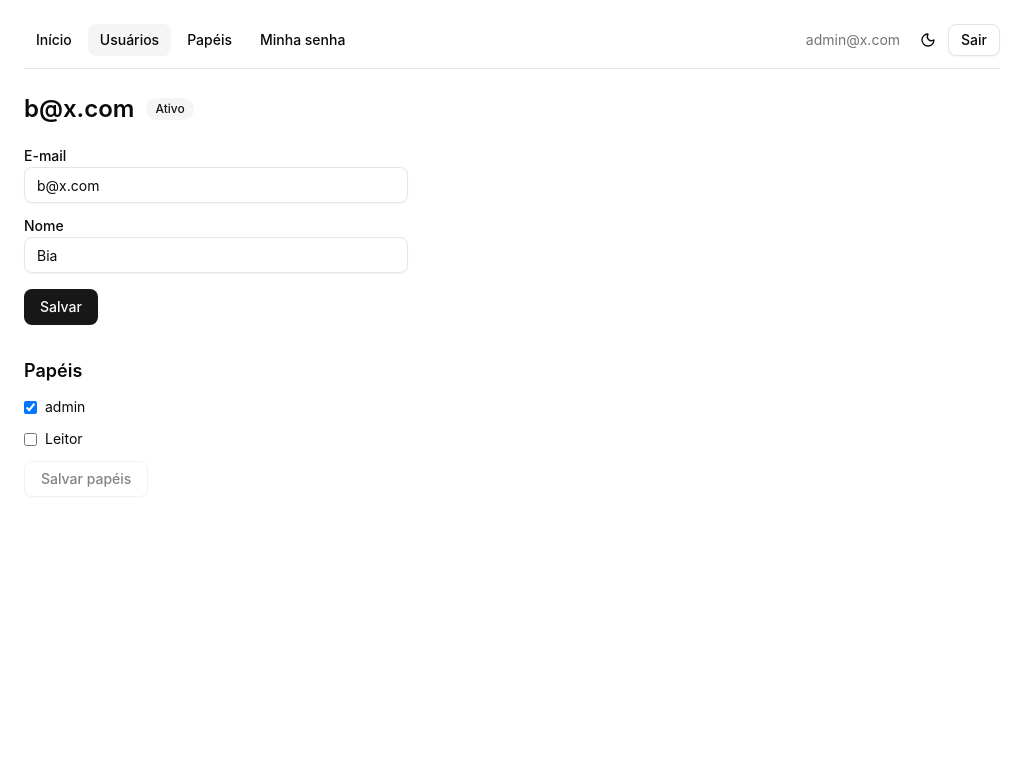
Scenario: UserRoles on /users/$id › shows last admin conflict
Expected: the checkbox labelled "Leitor" is shown, left=24, top=432, right=37, bottom=446
Step 1. Click the checkbox labelled "admin" → click(30, 407), box left=24, top=400, right=37, bottom=414
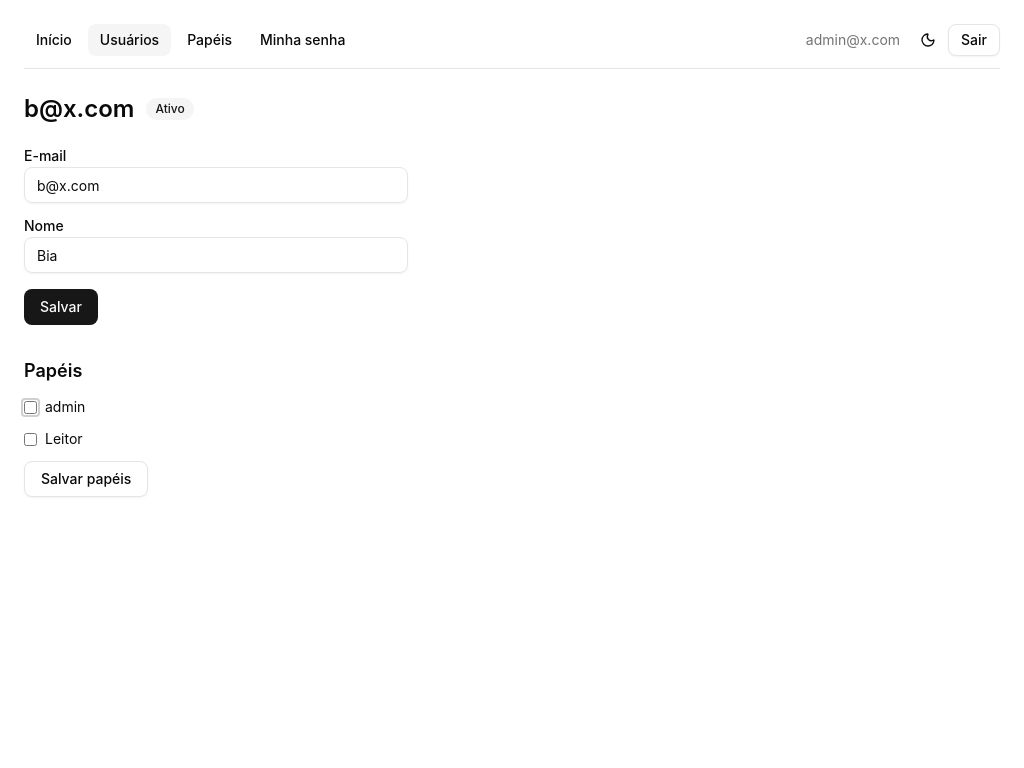
Step 2. Click the button "Salvar papéis" → click(86, 479), box left=24, top=461, right=148, bottom=497
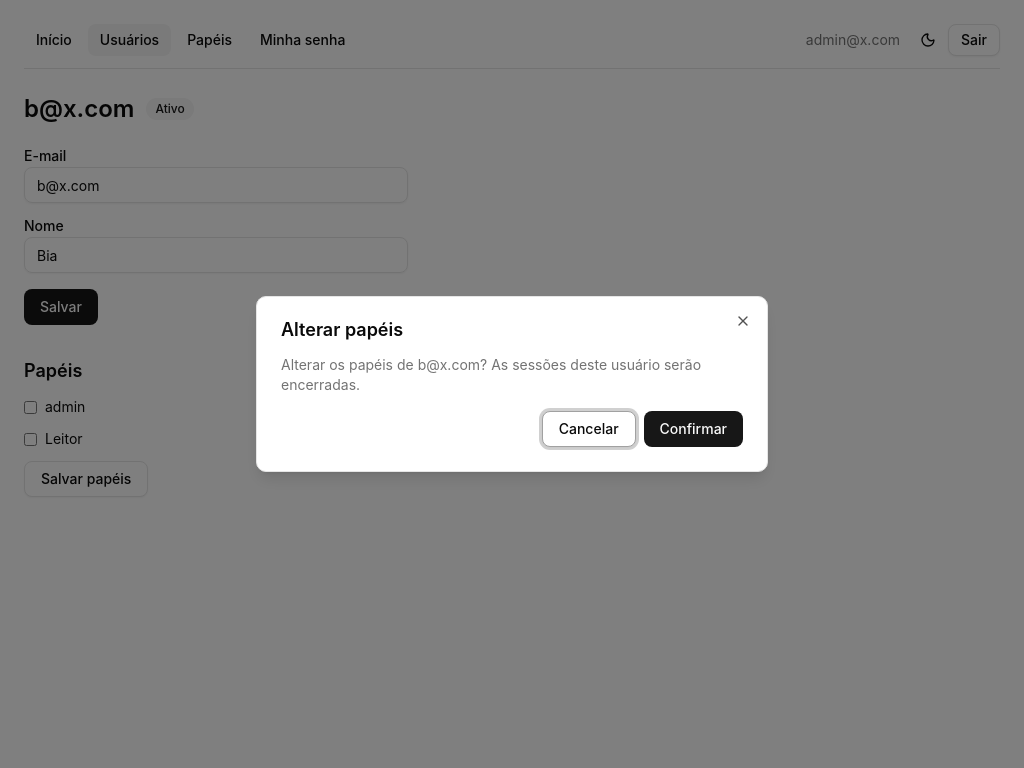
Step 3. Click the button "Confirmar" → click(693, 429), box left=644, top=411, right=743, bottom=447
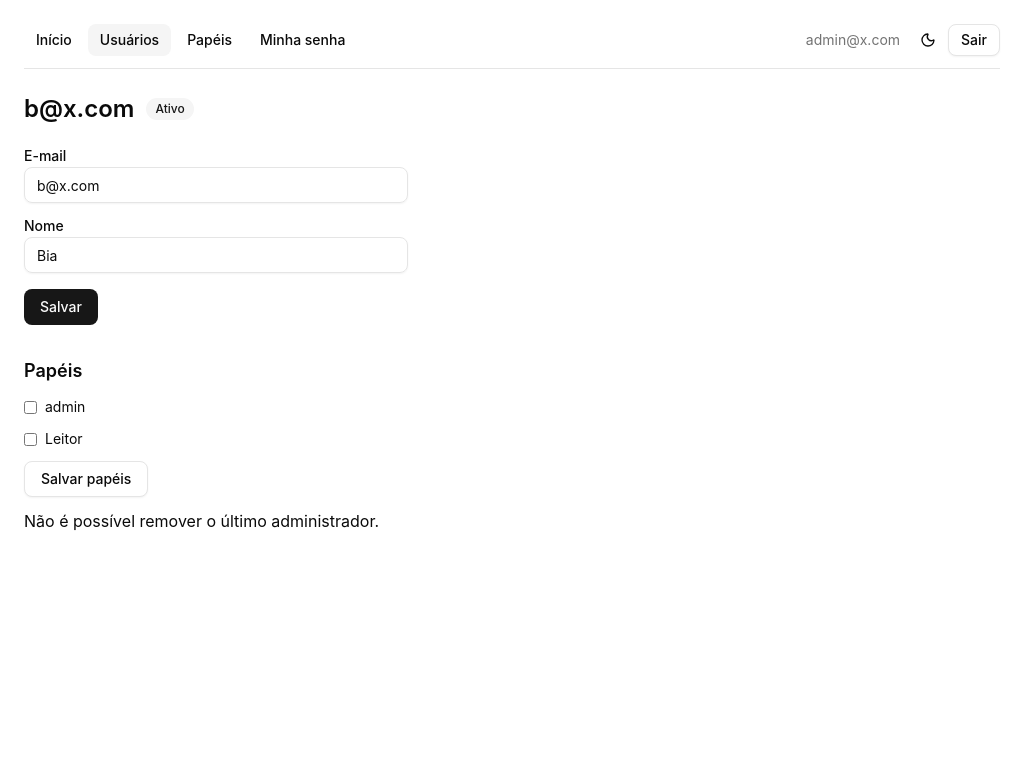
Now the text "Não é possível remover o último administrador." is shown, box left=24, top=511, right=379, bottom=531
